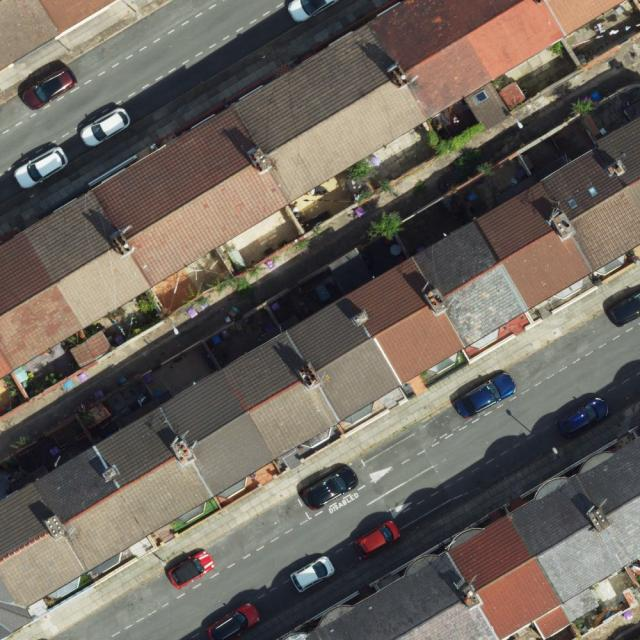roof: (0, 119, 640, 640), (0, 0, 626, 380), (303, 429, 640, 640), (0, 0, 119, 72)
skylight: (474, 88, 489, 106), (588, 187, 598, 198), (570, 198, 576, 209)
